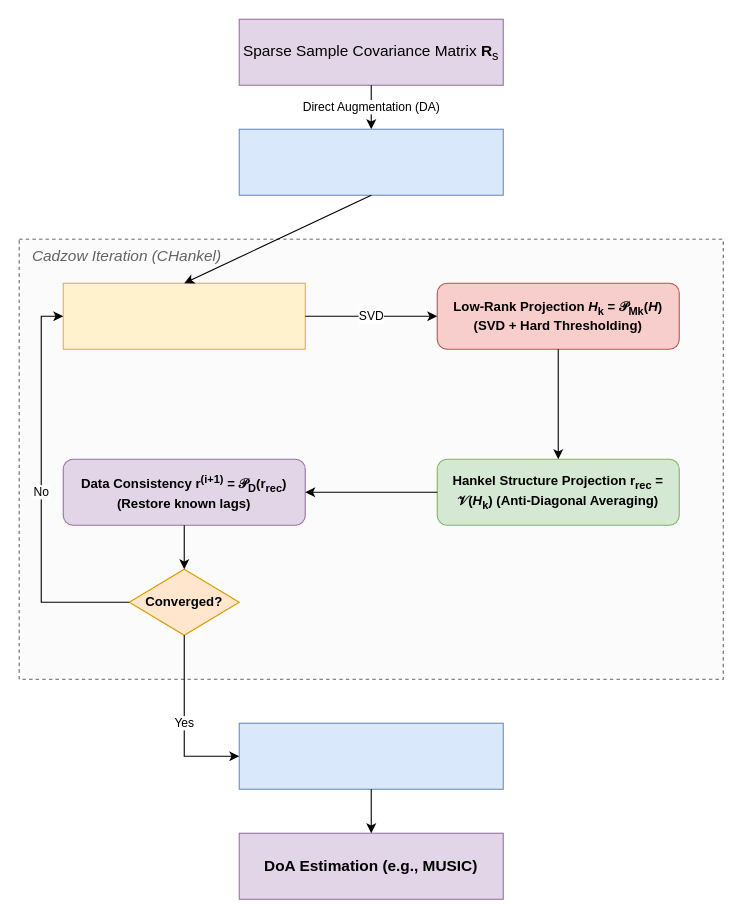
Image size: 743x919. Some labels were removed from this diagram. Here are the shapes that lost their labels. From the top down, the centre of each, then its label:
the point at 370,161: Initial Co-array Vector r (0) = r DA
the point at 183,315: Hankel Matrix Construction H = 𝒣( r (i) )
the point at 370,755: Toeplitz Covariance Construction R recon
